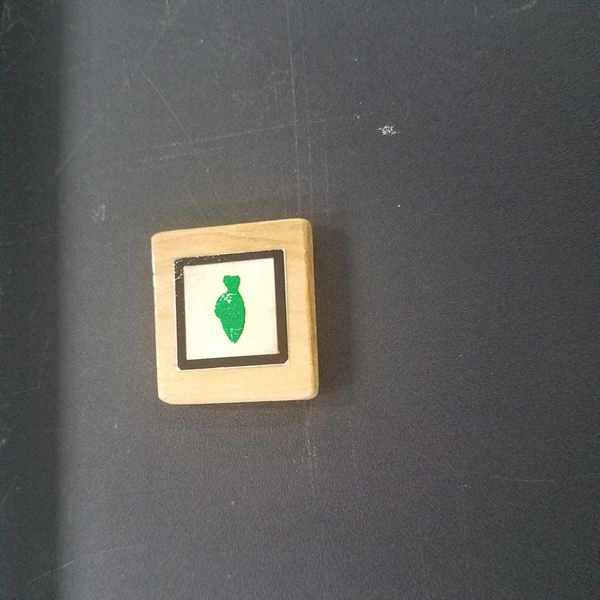Fish Tiles: (176, 261, 291, 365)
